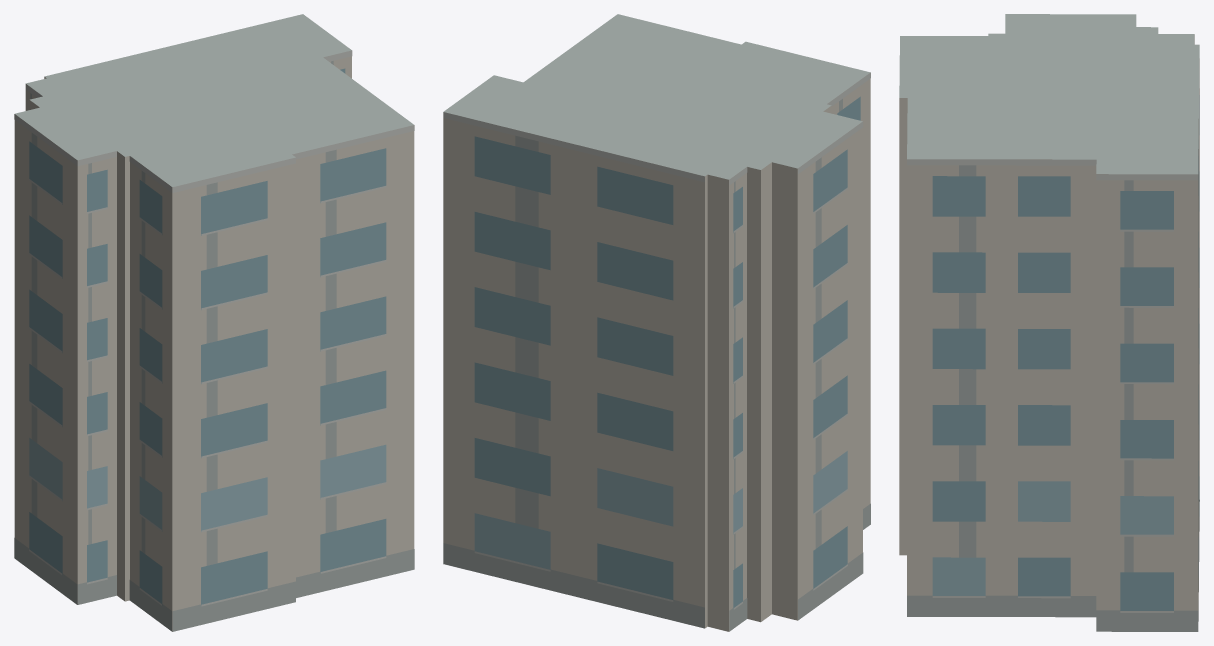
The model's file is survey-upis-32619427.glb.
The picture shows the model from 3 angles, left to right: view 1: azimuth 30°, elevation 25°; view 2: azimuth 150°, elevation 25°; view 3: azimuth 270°, elevation 25°; orthographic projection. The views are drawn at different scales.
Visible parts, largest first — view 1: survey-upis-32619427.tmp; view 2: survey-upis-32619427.tmp; view 3: survey-upis-32619427.tmp.
Boxes of the visible parts, bbox=[...] form: survey-upis-32619427.tmp: bbox=[14, 14, 414, 631]; survey-upis-32619427.tmp: bbox=[443, 14, 870, 631]; survey-upis-32619427.tmp: bbox=[899, 14, 1199, 631].
Size of the model in its own units: 13.76 by 18.3 by 10.9.
